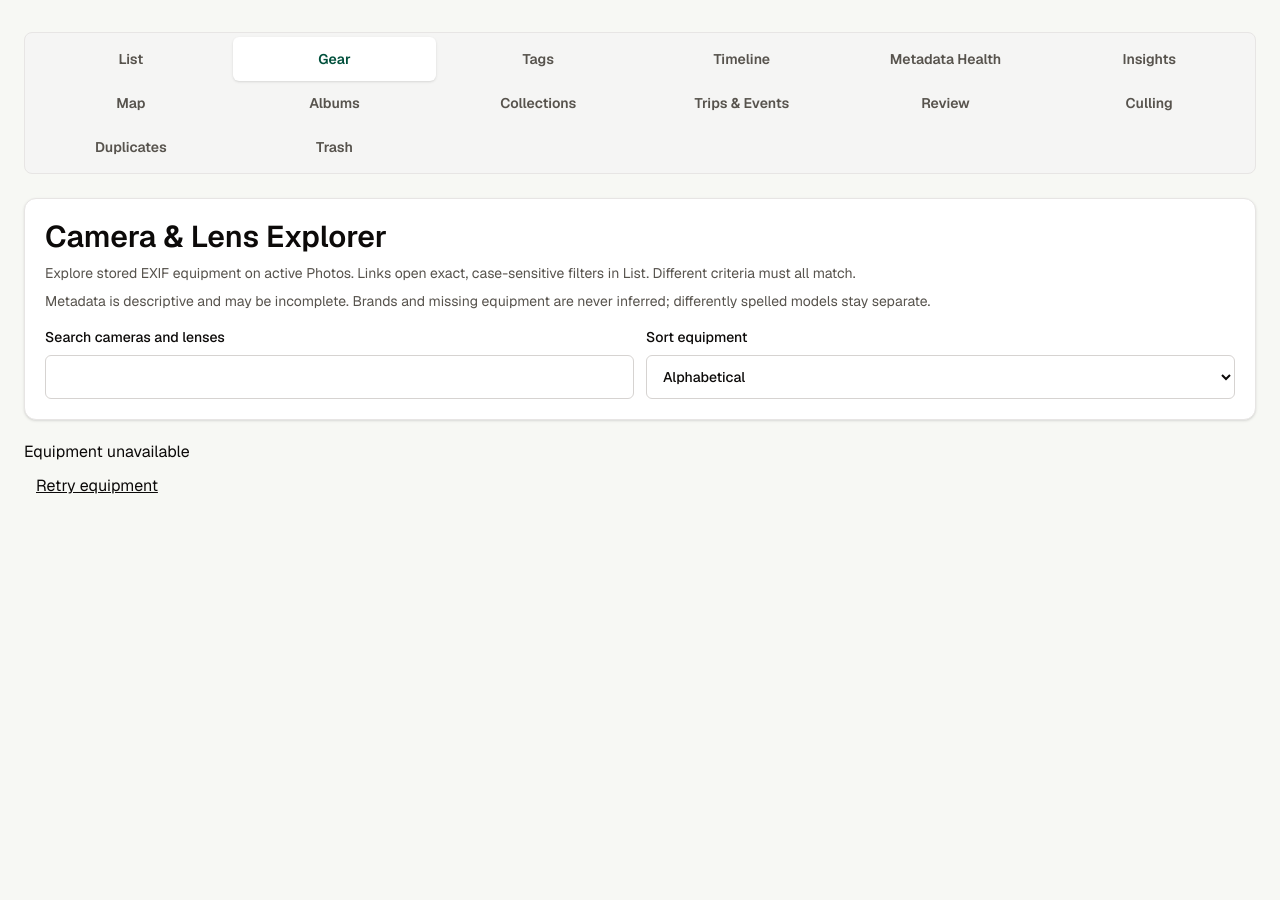
Test case: Explorer empty, error and retry
The width and height of the screenshot is (1280, 900).
Expected: the text "Equipment unavailable" is shown, [24,441,190,462]
Click the button "Retry equipment".
click(97, 486)  # box [24,464,170,508]
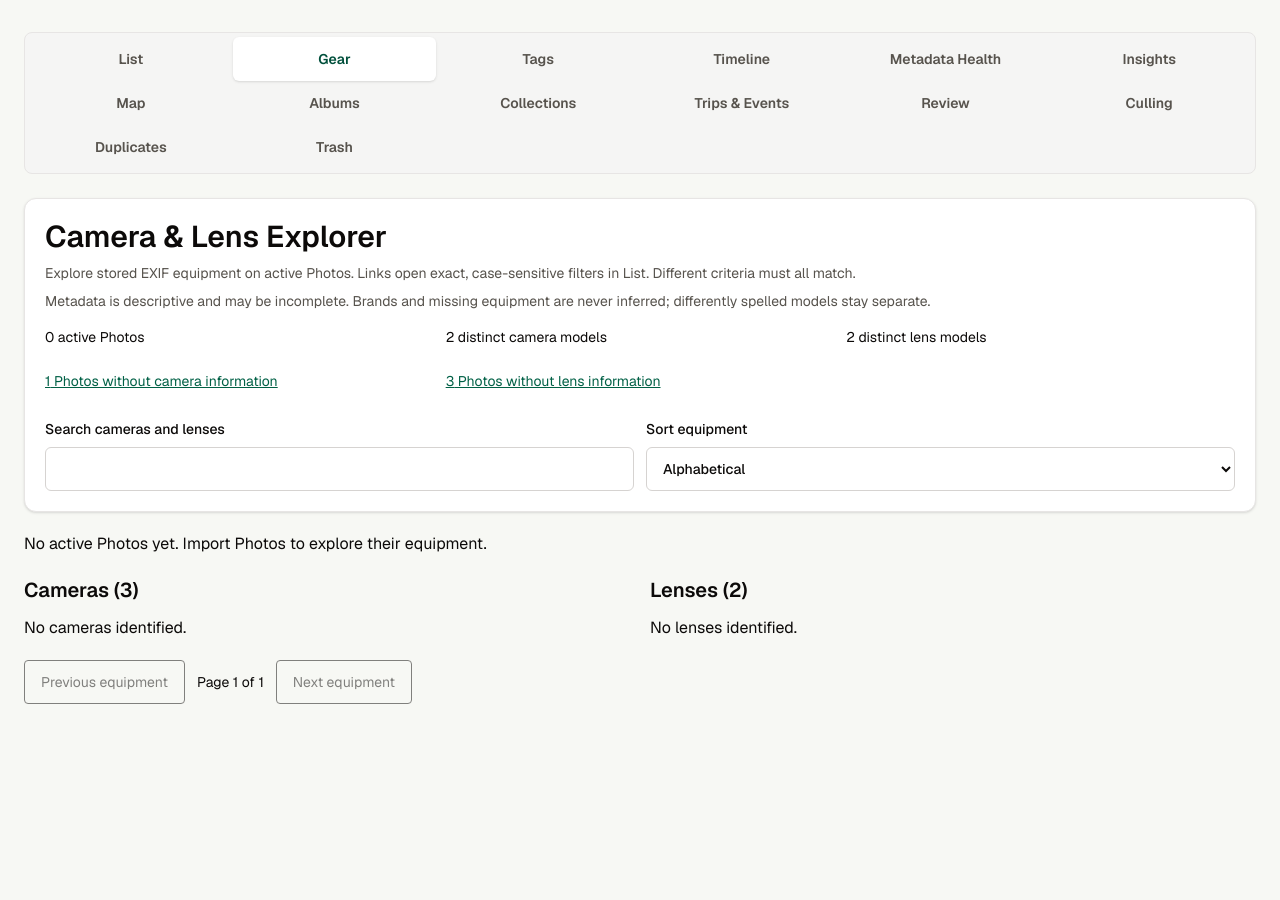
Result: the text "No active Photos yet. Import Photos to explore their equipment." is shown at [24,533,487,554]
